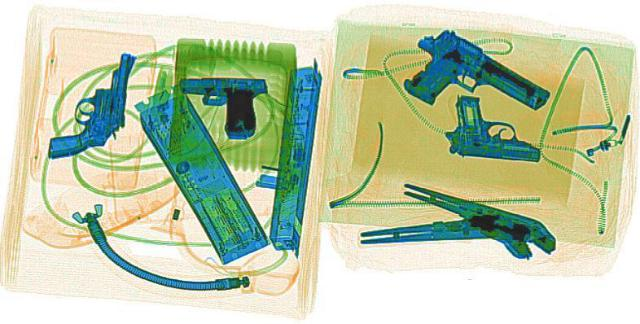Gun: (354, 27, 572, 130), (48, 50, 134, 157), (431, 94, 565, 161), (170, 74, 264, 139)
